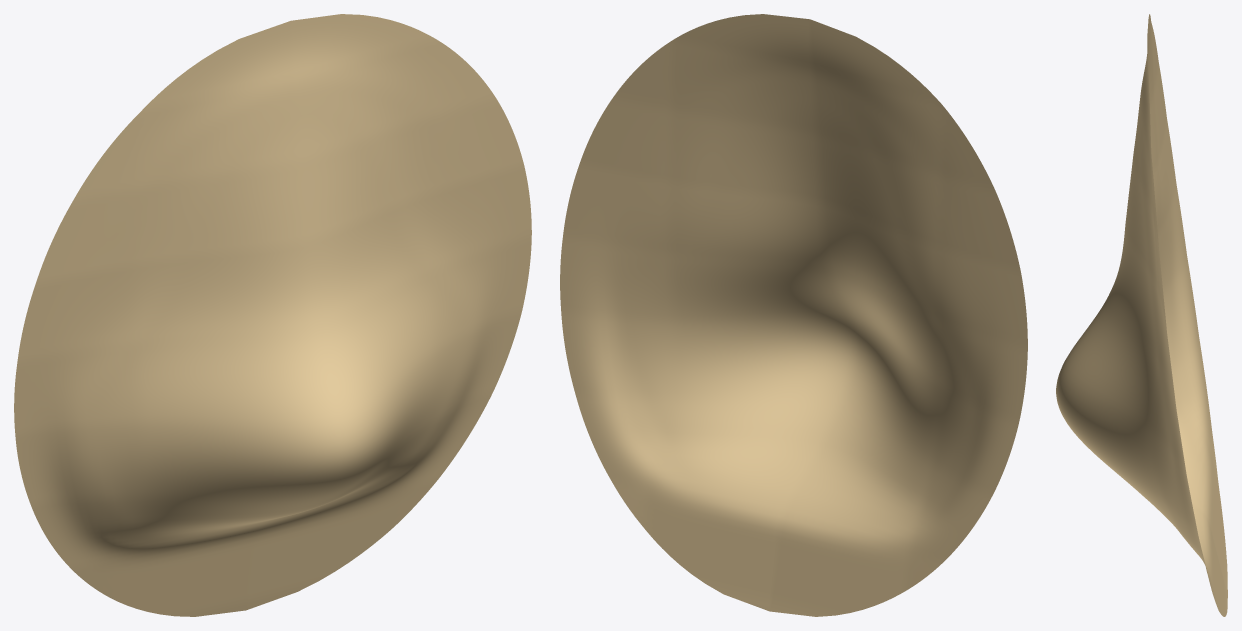
File: Masculine-nose-rounded.glb
3 renders of one model, left to right at view 1: azimuth 30°, elevation 25°; view 2: azimuth 150°, elevation 25°; view 3: azimuth 270°, elevation 25°, orthographic. The views are drawn at different scales.
Parts seen in each view (by area): view 1: Face / clean rounded nose190; view 2: Face / clean rounded nose190; view 3: Face / clean rounded nose190.
Boxes of the visible parts, x1,y1,x2,y2 form: Face / clean rounded nose190: (14, 14, 531, 616); Face / clean rounded nose190: (560, 14, 1027, 616); Face / clean rounded nose190: (1056, 14, 1227, 616).
Bounding box in the file's own units: 0.104 × 0.12 × 0.0334.
